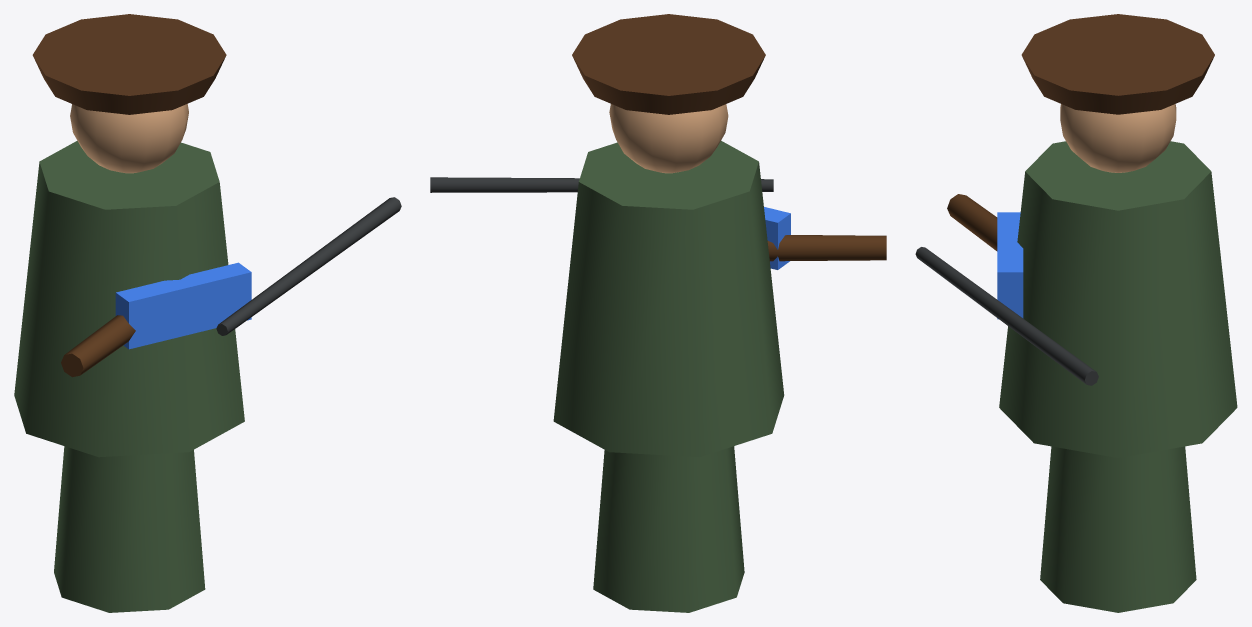
The model's file is rifleman.glb.
3 renders of one model, left to right at view 1: azimuth 30°, elevation 25°; view 2: azimuth 150°, elevation 25°; view 3: azimuth 270°, elevation 25°, orthographic.
Visible parts, largest first — view 1: rifleman-body, rifleman-legs, rifleman-wide-hat, rifleman-team-chest-band, rifleman-head, rifleman-long-barrel, rifleman-gun-stock; view 2: rifleman-body, rifleman-legs, rifleman-wide-hat, rifleman-head, rifleman-gun-stock, rifleman-long-barrel, rifleman-team-chest-band; view 3: rifleman-body, rifleman-legs, rifleman-wide-hat, rifleman-head, rifleman-long-barrel, rifleman-team-chest-band, rifleman-gun-stock.
Part boxes in pixels (x1=…): rifleman-body: x1=14, y1=140, x2=244, y2=457; rifleman-legs: x1=54, y1=446, x2=205, y2=612; rifleman-wide-hat: x1=32, y1=14, x2=226, y2=114; rifleman-team-chest-band: x1=115, y1=262, x2=251, y2=349; rifleman-head: x1=70, y1=104, x2=188, y2=173; rifleman-long-barrel: x1=216, y1=197, x2=401, y2=335; rifleman-gun-stock: x1=61, y1=315, x2=135, y2=377; rifleman-body: x1=553, y1=140, x2=784, y2=457; rifleman-legs: x1=593, y1=446, x2=744, y2=612; rifleman-wide-hat: x1=572, y1=14, x2=765, y2=114; rifleman-head: x1=609, y1=104, x2=728, y2=173; rifleman-gun-stock: x1=767, y1=235, x2=886, y2=261; rifleman-long-barrel: x1=430, y1=177, x2=773, y2=192; rifleman-team-chest-band: x1=764, y1=207, x2=790, y2=269; rifleman-body: x1=999, y1=141, x2=1237, y2=457; rifleman-legs: x1=1040, y1=446, x2=1196, y2=612; rifleman-wide-hat: x1=1021, y1=14, x2=1214, y2=114; rifleman-head: x1=1060, y1=104, x2=1176, y2=172; rifleman-long-barrel: x1=915, y1=247, x2=1098, y2=385; rifleman-team-chest-band: x1=997, y1=212, x2=1023, y2=319; rifleman-gun-stock: x1=947, y1=194, x2=997, y2=251.
Bounding box in the file's own units: 1.23 × 1.55 × 0.8645.
